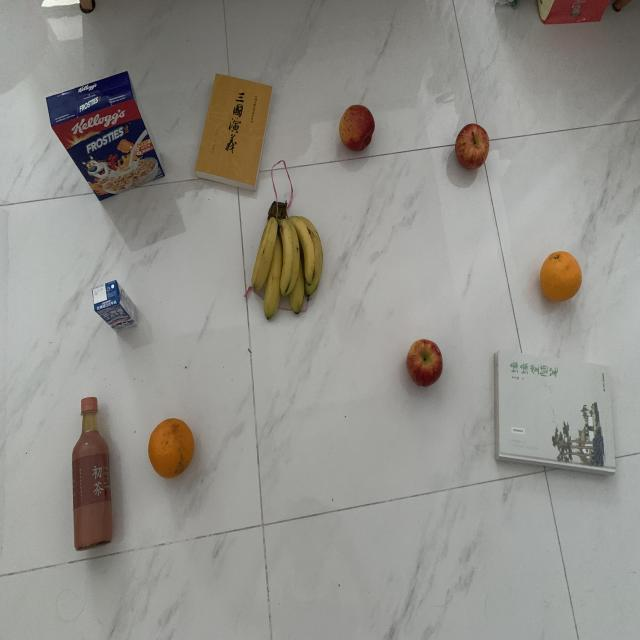Apple: (405, 337, 449, 388), (338, 103, 376, 157), (454, 122, 492, 173)
Banana: (248, 198, 328, 320)
Book: (491, 354, 622, 483), (195, 71, 273, 192)
Cerealbox: (40, 68, 167, 204)
Orange: (148, 416, 197, 483), (537, 249, 586, 306)
